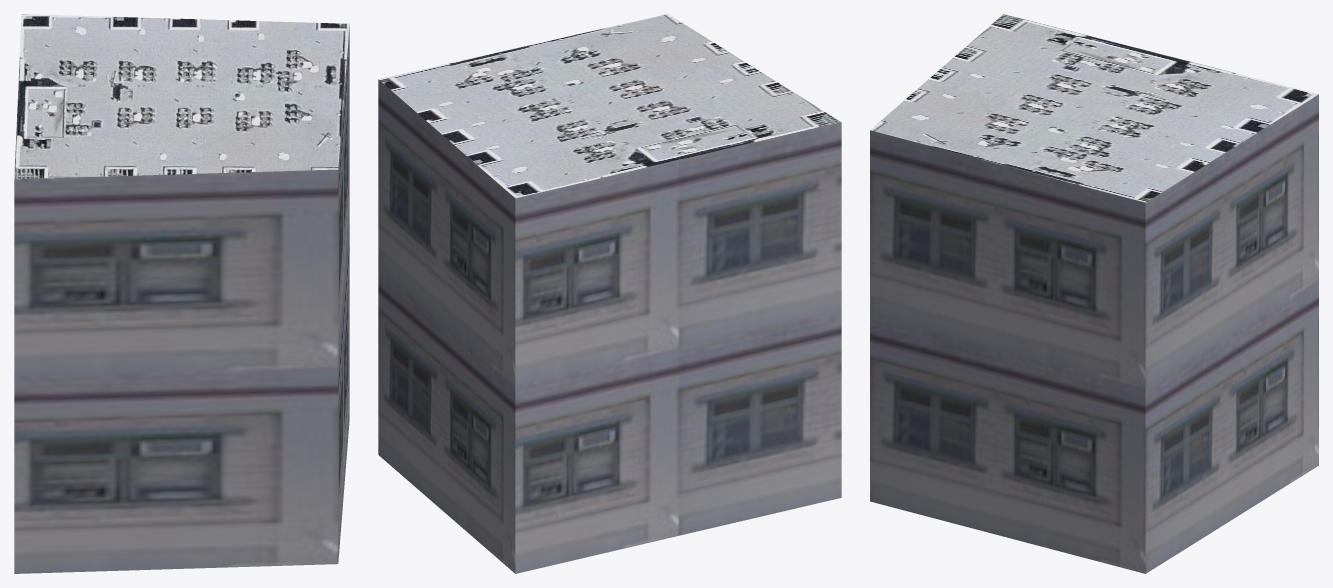
File: ResTex__4292.fbx
3 renders of one model, left to right at view 1: azimuth 30°, elevation 25°; view 2: azimuth 150°, elevation 25°; view 3: azimuth 270°, elevation 25°, orthographic. The views are drawn at different scales.
Parts seen in each view (by area): view 1: CityEngineMaterial_1_m, CityEngineMaterial_m; view 2: CityEngineMaterial_1_m, CityEngineMaterial_m; view 3: CityEngineMaterial_1_m, CityEngineMaterial_m.
Boxes of the visible parts, x1=… form: CityEngineMaterial_1_m: x1=14, y1=27, x2=349, y2=573; CityEngineMaterial_m: x1=14, y1=14, x2=349, y2=179; CityEngineMaterial_1_m: x1=378, y1=79, x2=841, y2=573; CityEngineMaterial_m: x1=379, y1=14, x2=841, y2=198; CityEngineMaterial_1_m: x1=870, y1=94, x2=1318, y2=573; CityEngineMaterial_m: x1=870, y1=14, x2=1318, y2=202.
Bounding box in the file's own units: 6.54 × 6 × 6.57.
Materials: 2 (2 with a texture image).
